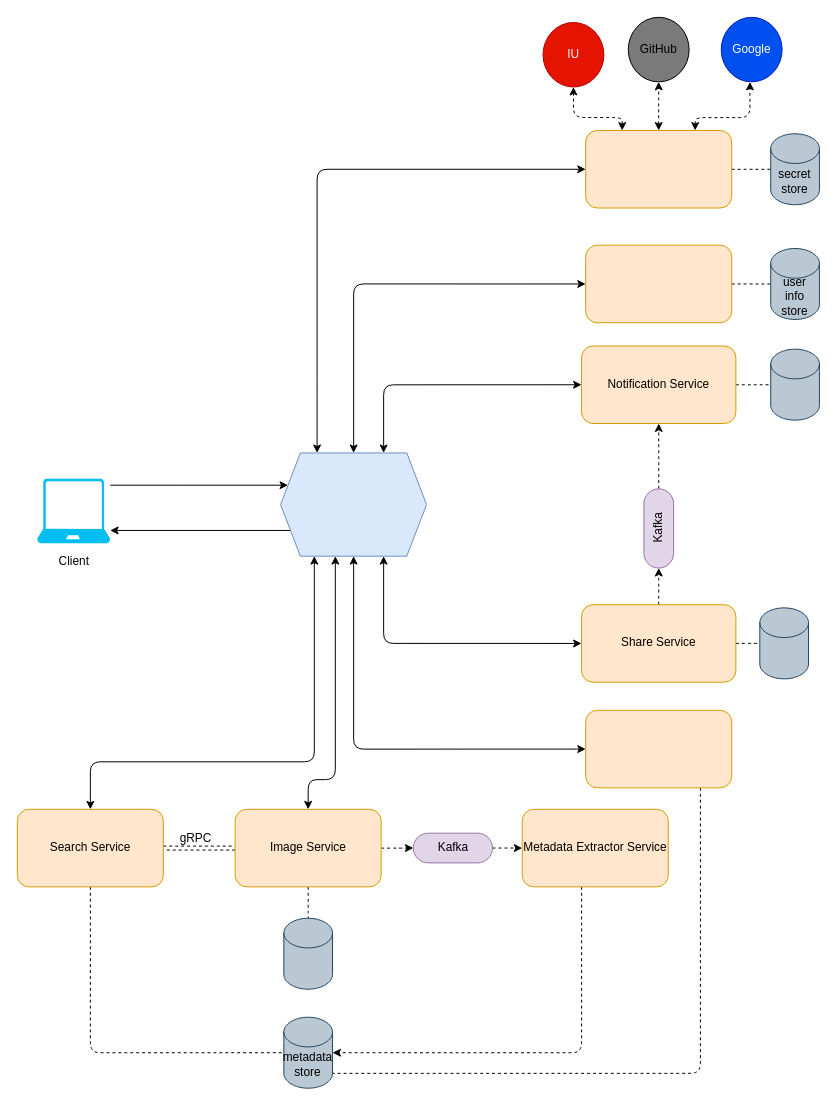
Image size: 838x1106. Some labels were removed from this diagram. The shapes that lost their labels are listed below. From the top down, each one's centre as x and y in pixels, then its label:
At [658,168]: "Authentication Service".
At [658,283]: "User Service".
At [794,384]: "notif store".
At [353,504]: "Gateway".
At [784,643]: "share info store".
At [658,748]: "Album Service".
At [308,953]: "cloud image store".
